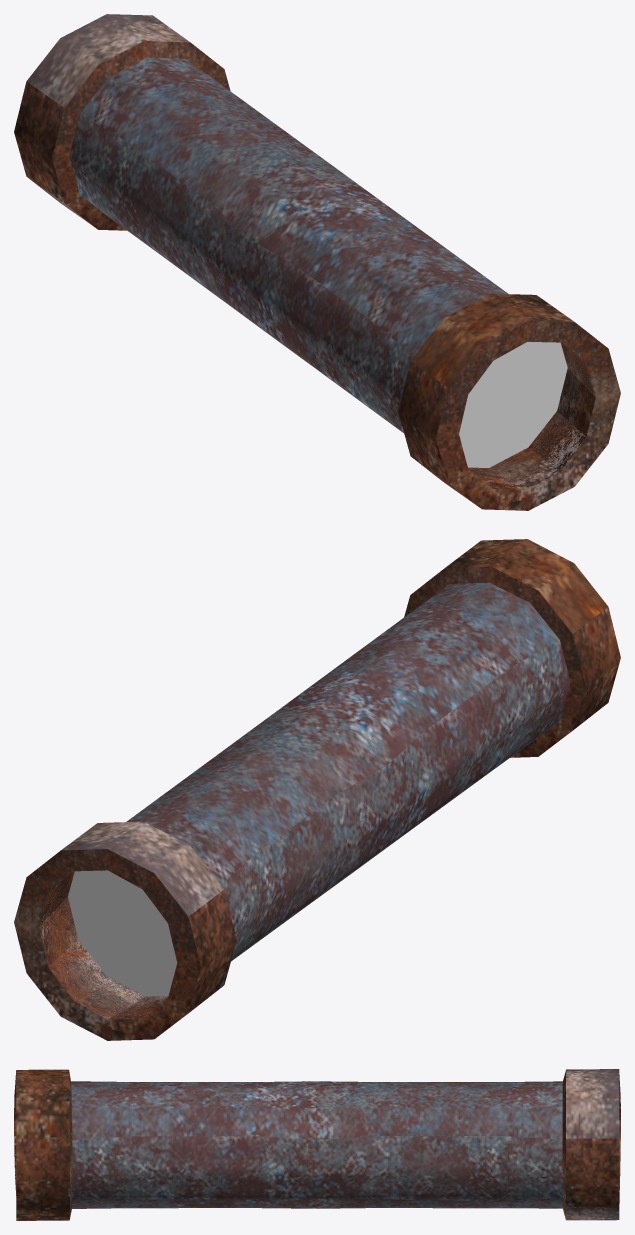
File: TPE 2_FBX.fbx
3 views of the same model, one above another, from view 1: azimuth 30°, elevation 25°; view 2: azimuth 150°, elevation 25°; view 3: azimuth 270°, elevation 25° (orthographic). The views are drawn at different scales.
Parts seen in each view (by area): view 1: Tubería plataforma estática larga 2.001; view 2: Tubería plataforma estática larga 2.001; view 3: Tubería plataforma estática larga 2.001.
Part boxes in pixels (box(x1,y1,x2,y2)): Tubería plataforma estática larga 2.001: box(14, 14, 620, 510); Tubería plataforma estática larga 2.001: box(14, 539, 620, 1040); Tubería plataforma estática larga 2.001: box(14, 1069, 620, 1220).
Size of the model in its own units: 183 by 177 by 713.
